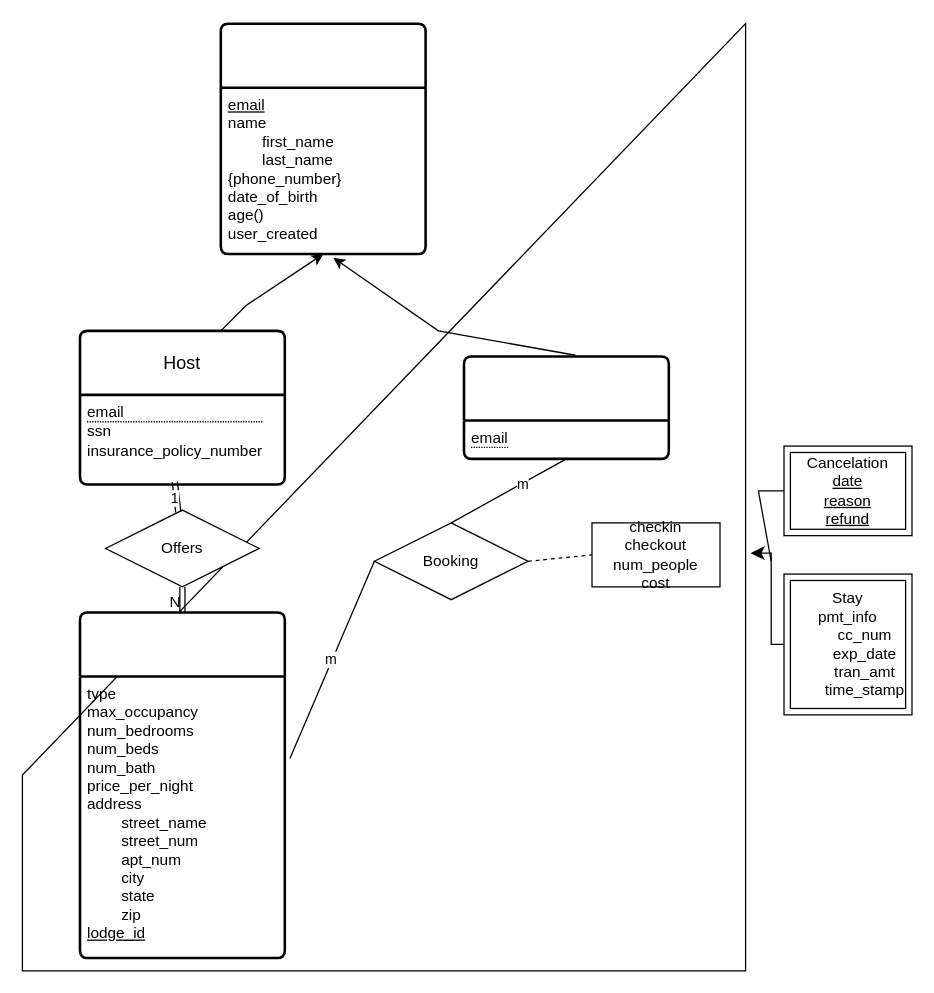
Image size: 934x993. Some labels were removed from this diagram. Each missing label, with the box of its shape:
Guest: (462, 355, 669, 460)
Lodging: (78, 611, 285, 959)
Person: (219, 22, 426, 255)
